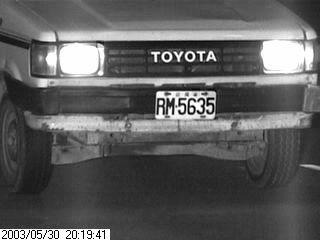plate: (154, 88, 218, 121)
